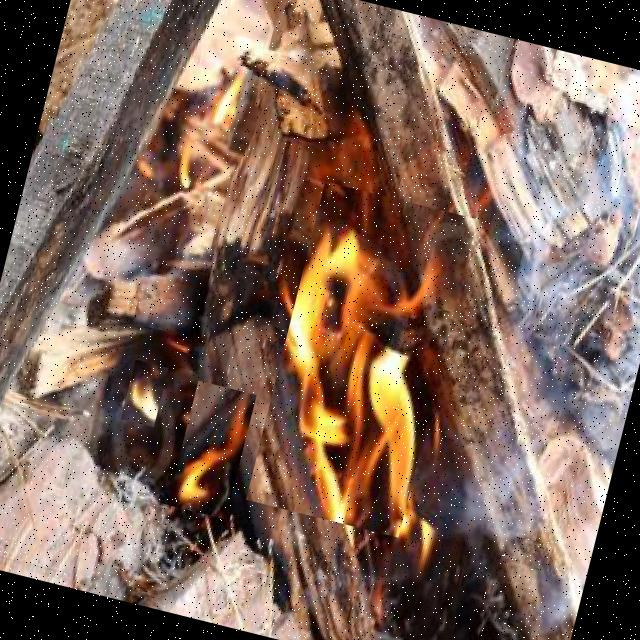fire: (245, 181, 478, 537), (167, 380, 256, 519), (120, 359, 168, 426)
